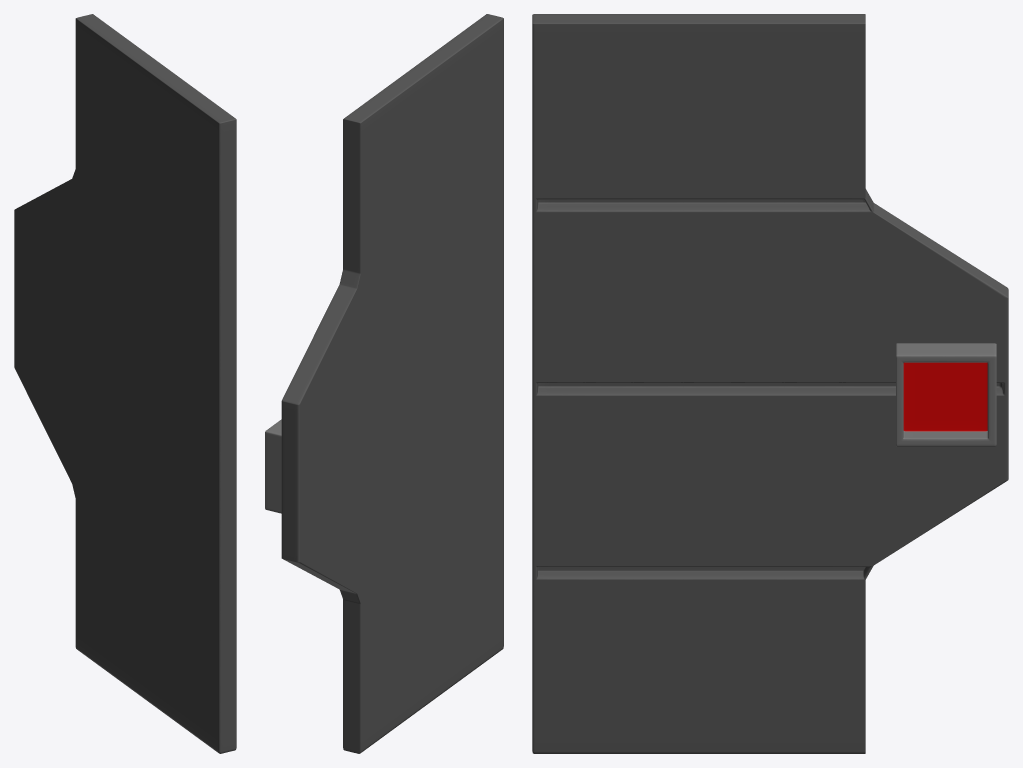
Rendered from Door01_side01 1.fbx.
The picture shows the model from 3 angles, left to right: view 1: azimuth 30°, elevation 25°; view 2: azimuth 150°, elevation 25°; view 3: azimuth 270°, elevation 25°; orthographic projection. The views are drawn at different scales.
Parts seen in each view (by area): view 1: polySurface190; view 2: polySurface190; view 3: polySurface190.
Part boxes in pixels (left/top/right/bottom): polySurface190: left=14, top=14, right=236, bottom=753; polySurface190: left=265, top=14, right=503, bottom=753; polySurface190: left=532, top=14, right=1008, bottom=753.
Bounding box in the file's own units: 7.81 × 120 × 70.84.
